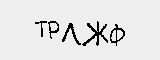Ж: (83, 20, 108, 49)
Л: (60, 22, 80, 46)
Р: (46, 19, 61, 41)
Т: (34, 19, 49, 39)
Ф: (109, 22, 125, 47)
